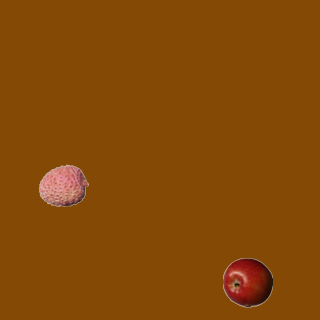Apple Braeburn: (222, 257, 272, 307)
Lychee: (38, 160, 88, 210)
